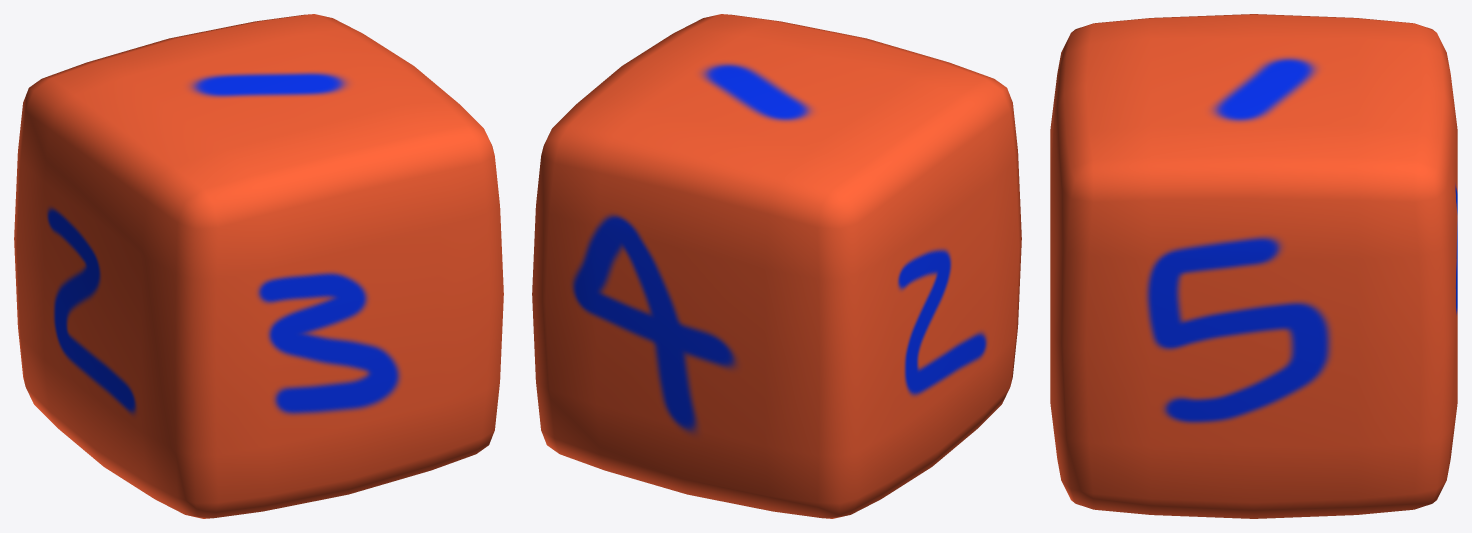
Rendered from Dice2.glb.
3 views of the same model, side by side, from view 1: azimuth 30°, elevation 25°; view 2: azimuth 150°, elevation 25°; view 3: azimuth 270°, elevation 25° (orthographic). The views are drawn at different scales.
Parts seen in each view (by area): view 1: Cube; view 2: Cube; view 3: Cube.
Part boxes in pixels (x1,y1,x2,y2): Cube: (14, 14, 503, 518); Cube: (532, 14, 1021, 518); Cube: (1050, 14, 1457, 518).
Bounding box in the file's own units: 2.13 × 2.13 × 2.13.
Materials: 1 (1 with a texture image).
